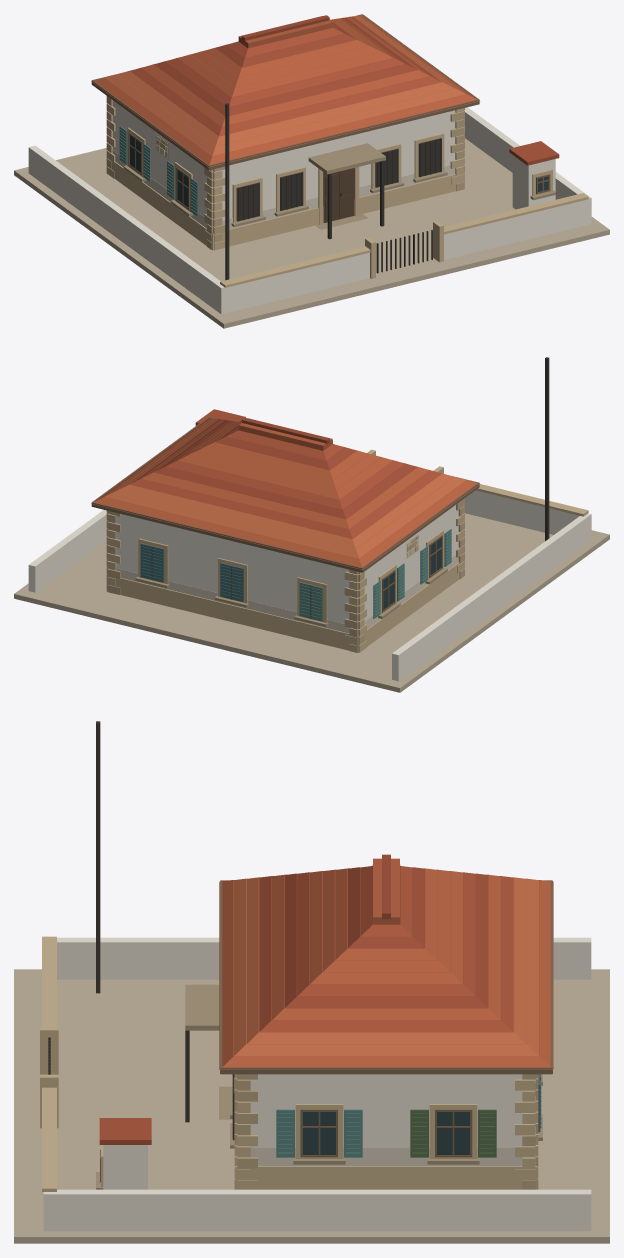
File: karakol.glb
3 renders of one model, top to bottom at view 1: azimuth 30°, elevation 25°; view 2: azimuth 150°, elevation 25°; view 3: azimuth 270°, elevation 25°, orthographic. The views are drawn at different scales.
Parts seen in each view (by area): view 1: badana, zemin, kiremit1, tas2, kiremit2, kiremit3, demir, kiremit4, ahsap, tas_koyu, tas3, badana_kir (+3 smaller); view 2: badana, zemin, kiremit1, tas2, kiremit3, kiremit2, kiremit4, ahsap, badana_kir, kepenk2, tas3, kepenk (+3 smaller); view 3: zemin, badana, kiremit1, kiremit2, tas2, kiremit3, kiremit4, ahsap, tas_koyu, badana_kir, cam, demir (+3 smaller).
Part boxes in pixels (x1,y1,x2,y2): badana: (28,100,591,314); zemin: (14,138,609,328); kiremit1: (91,15,480,167); tas2: (106,103,588,287); kiremit2: (130,16,559,165); kiremit3: (105,15,465,155); demir: (225,103,441,280); kiremit4: (154,15,417,116); ahsap: (91,14,550,220); tas_koyu: (123,143,555,229); tas3: (106,96,464,249); badana_kir: (112,134,455,229); badana: (28,490,591,681); zemin: (14,513,609,692); kiremit1: (91,417,479,569); tas2: (106,449,588,652); kiremit3: (105,418,466,558); kiremit2: (130,409,441,538); kiremit4: (154,417,417,519); ahsap: (91,416,479,620); badana_kir: (116,534,458,633); kepenk2: (299,529,451,621); tas3: (106,498,464,644); kepenk: (140,543,243,601); zemin: (14,969,609,1243); badana: (43,937,591,1231); kiremit1: (219,858,553,1069); kiremit2: (99,866,513,1144); tas2: (40,936,538,1191); kiremit3: (234,877,538,1056); kiremit4: (284,854,488,1008); ahsap: (100,880,552,1182); tas_koyu: (96,984,542,1189); badana_kir: (250,1148,535,1166); cam: (300,1110,469,1156); demir: (48,721,233,1140).
Bounding box in the file's own units: 17 × 8.2 × 16.
